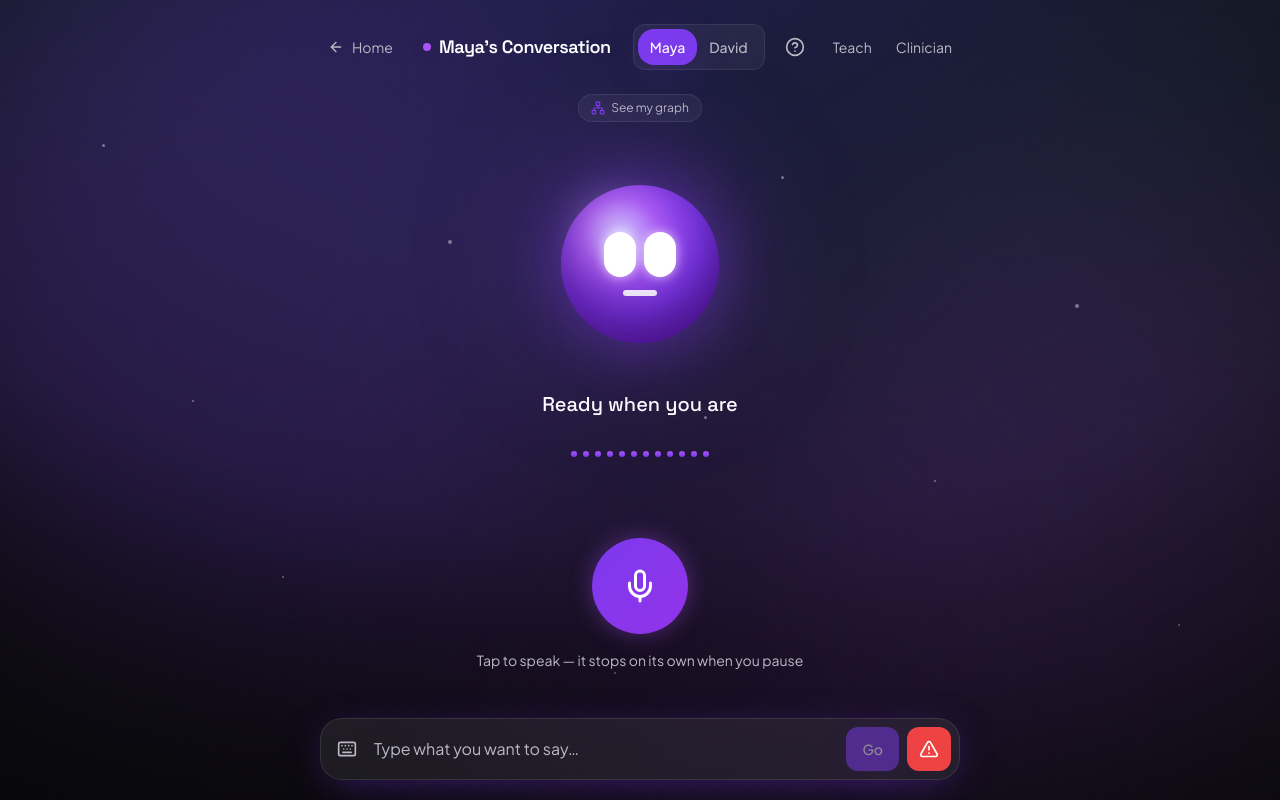
Test: ConversationCanvas › renders the first-class refusal path with a teach-a-phrase exit
This screenshot has width=1280, height=800.
Step 1. Type "zzz" into the field labelled "Type what you want to say…" → (602, 749), box x1=365 y1=727 x2=838 y2=771
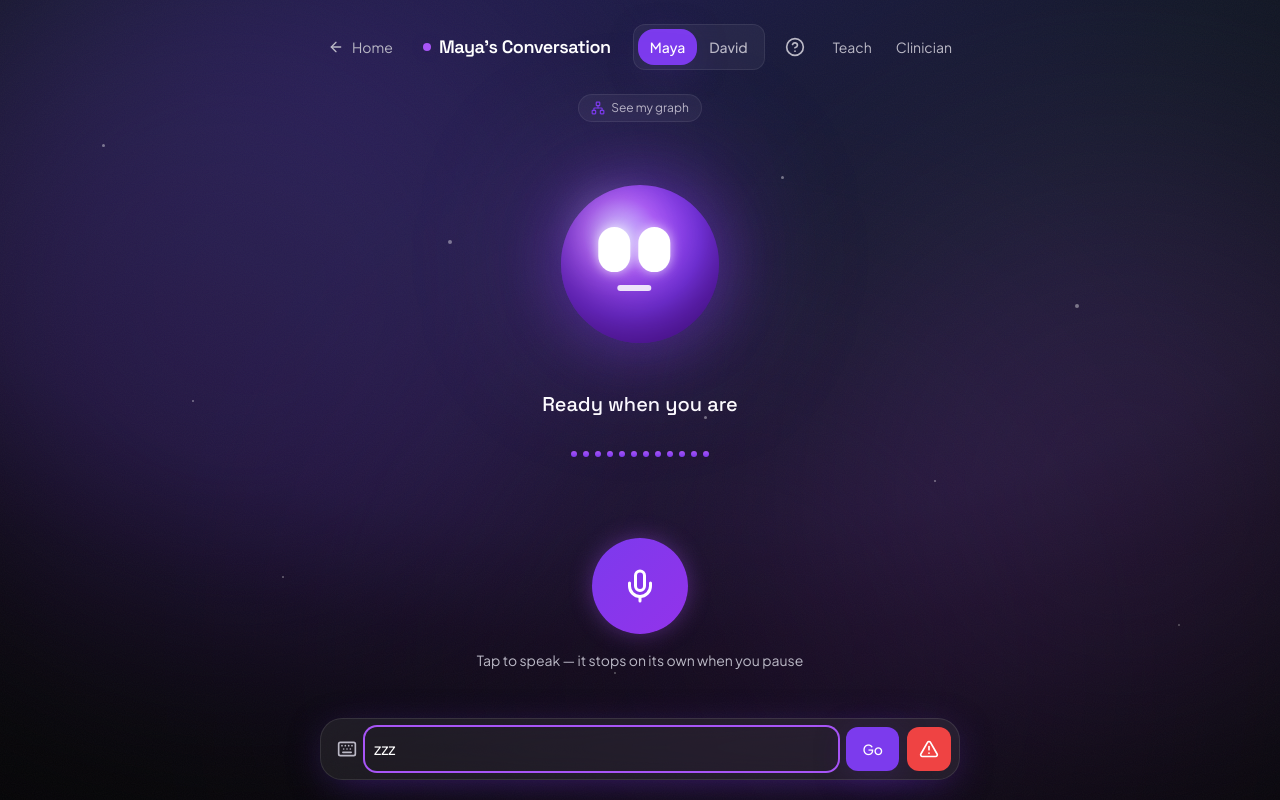
Step 2. Click the button with aria-label "get suggestions" → (873, 749), box x1=846 y1=727 x2=899 y2=771
(page scrolled)
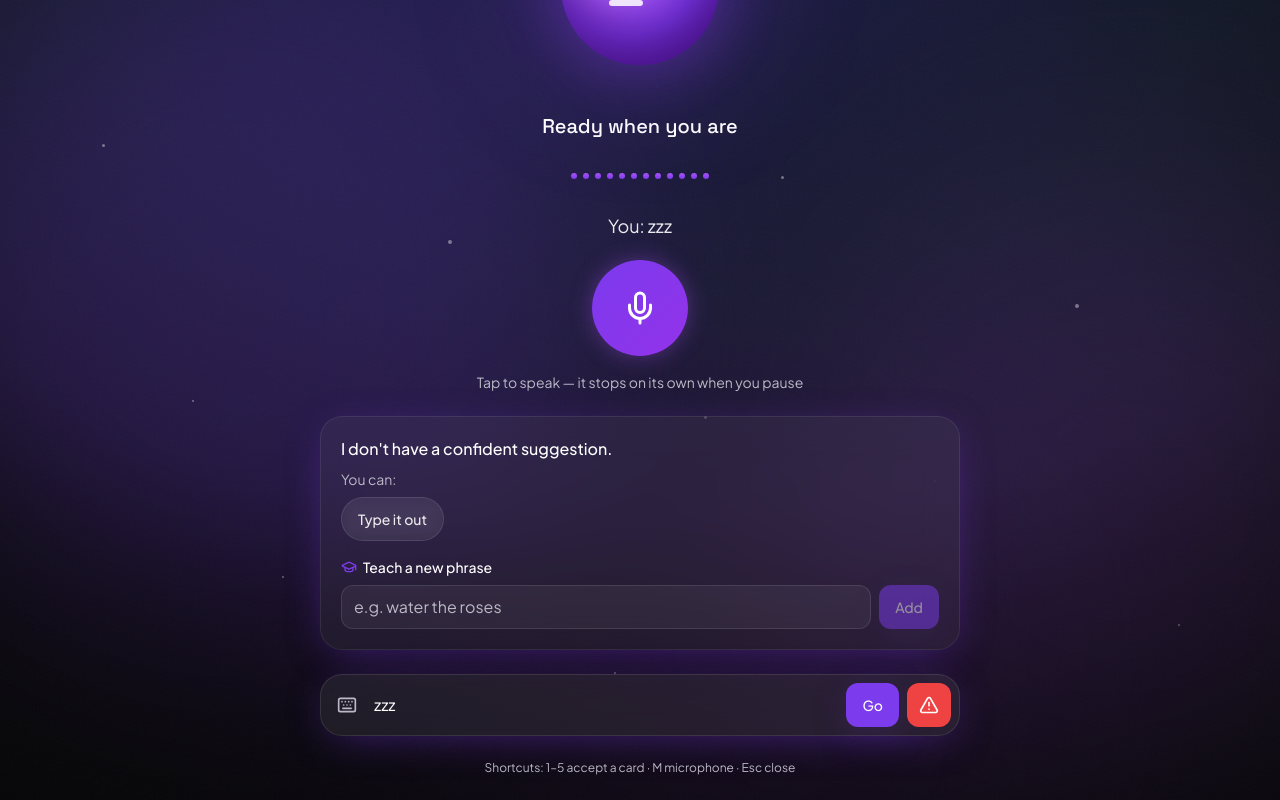
Result: the text "I don't have a confident suggestion." is shown at x1=341 y1=438 x2=612 y2=459
Result: the text "Type it out" is shown at x1=341 y1=497 x2=444 y2=541
Result: the field labelled "Teach a new phrase" is shown at x1=341 y1=585 x2=871 y2=629
